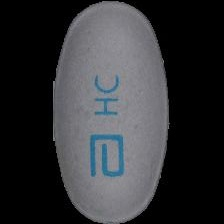63629-3370: (0, 0, 224, 224)
